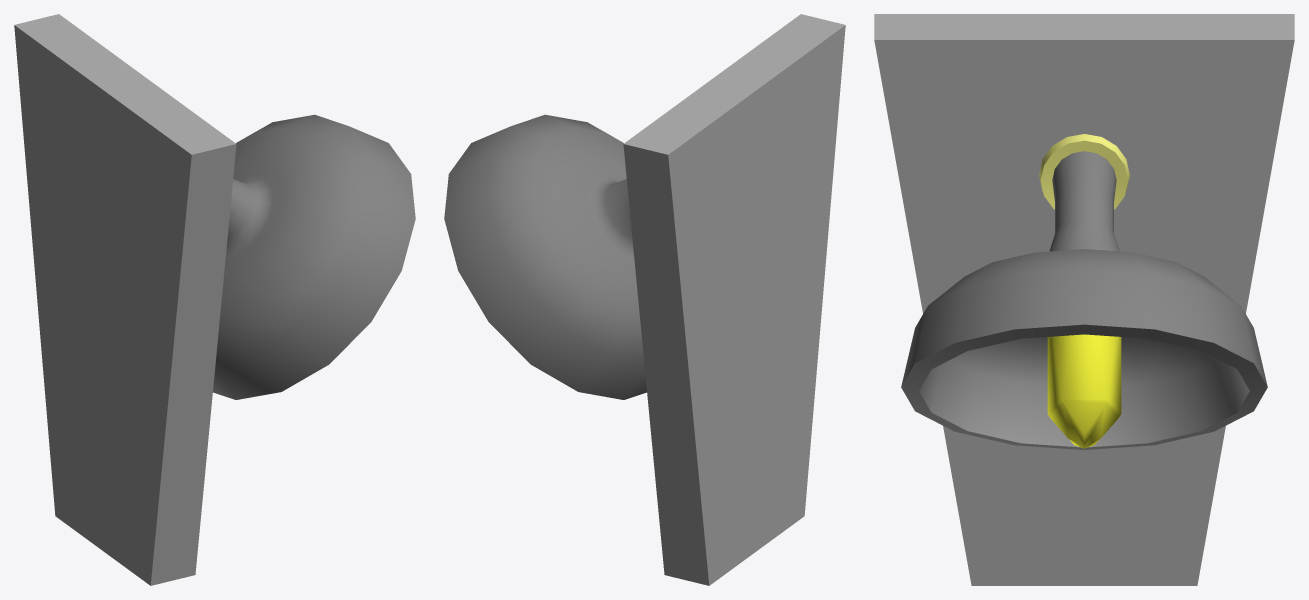
File: WallStreetLightPost.fbx
The picture shows the model from 3 angles, left to right: view 1: azimuth 30°, elevation 25°; view 2: azimuth 150°, elevation 25°; view 3: azimuth 270°, elevation 25°; orthographic projection. The views are drawn at different scales.
Parts seen in each view (by area): view 1: WallStreetLightPostAttach, WallStreetLightPost; view 2: WallStreetLightPostAttach, WallStreetLightPost; view 3: WallStreetLightPostAttach, WallStreetLightPost, WallStreetLightPostBulb.
Part boxes in pixels (x1,y1,x2,y2): WallStreetLightPostAttach: (14, 14, 236, 585); WallStreetLightPost: (213, 114, 415, 399); WallStreetLightPostAttach: (623, 14, 845, 585); WallStreetLightPost: (444, 114, 646, 399); WallStreetLightPostAttach: (874, 14, 1294, 585); WallStreetLightPost: (901, 134, 1267, 449); WallStreetLightPostBulb: (1047, 334, 1121, 448).
Size of the model in its own units: 1.84 by 1.98 by 2.83.
